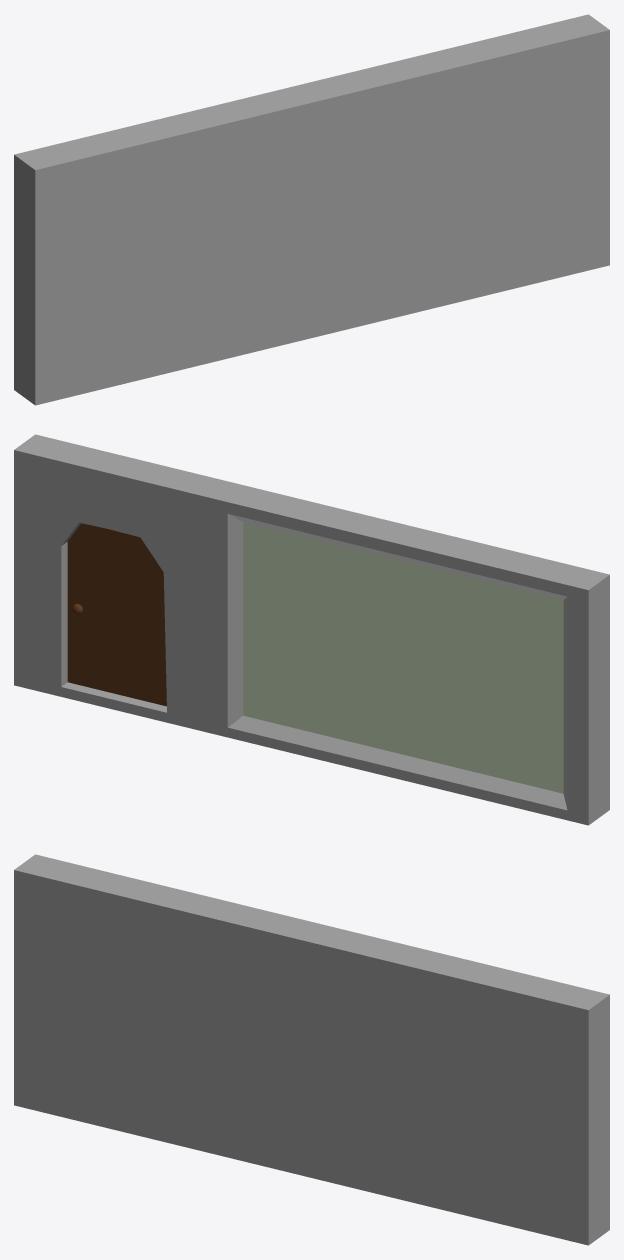
File: CafeWall.fbx
3 views of the same model, one above another, from view 1: azimuth 30°, elevation 25°; view 2: azimuth 150°, elevation 25°; view 3: azimuth 330°, elevation 25° (orthographic).
Parts seen in each view (by area): view 1: pCube3; view 2: pCube3; view 3: pCube3.
Part boxes in pixels (<box>): pCube3: <box>14,14,609,405</box>; pCube3: <box>14,434,609,825</box>; pCube3: <box>14,854,609,1245</box>.
Bounding box in the file's own units: 447 × 175 × 28.76.
